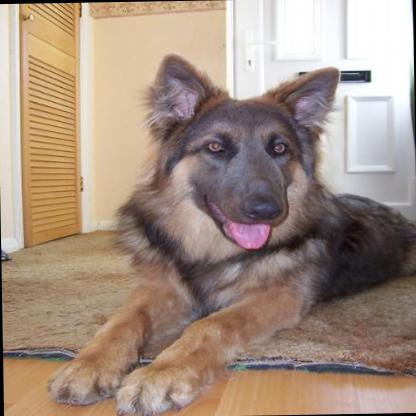German_shepherd: (38, 48, 414, 416)
